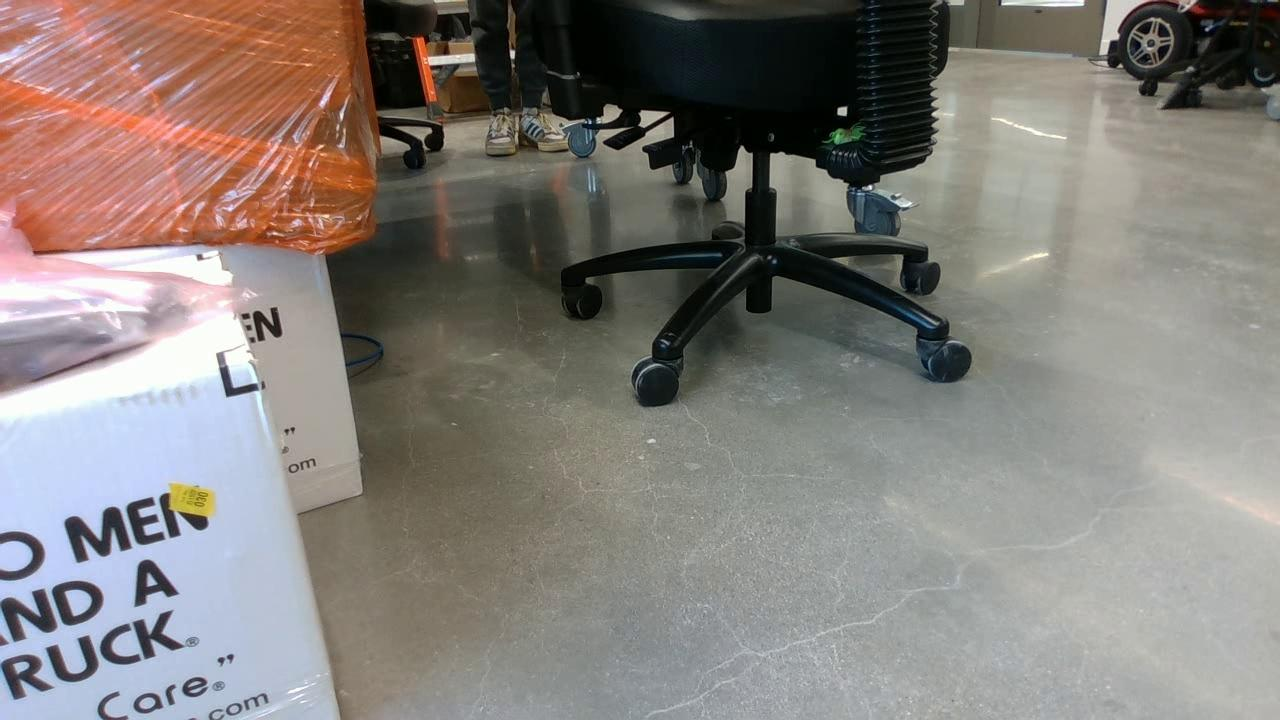grasshopper: (810, 124, 875, 148)
